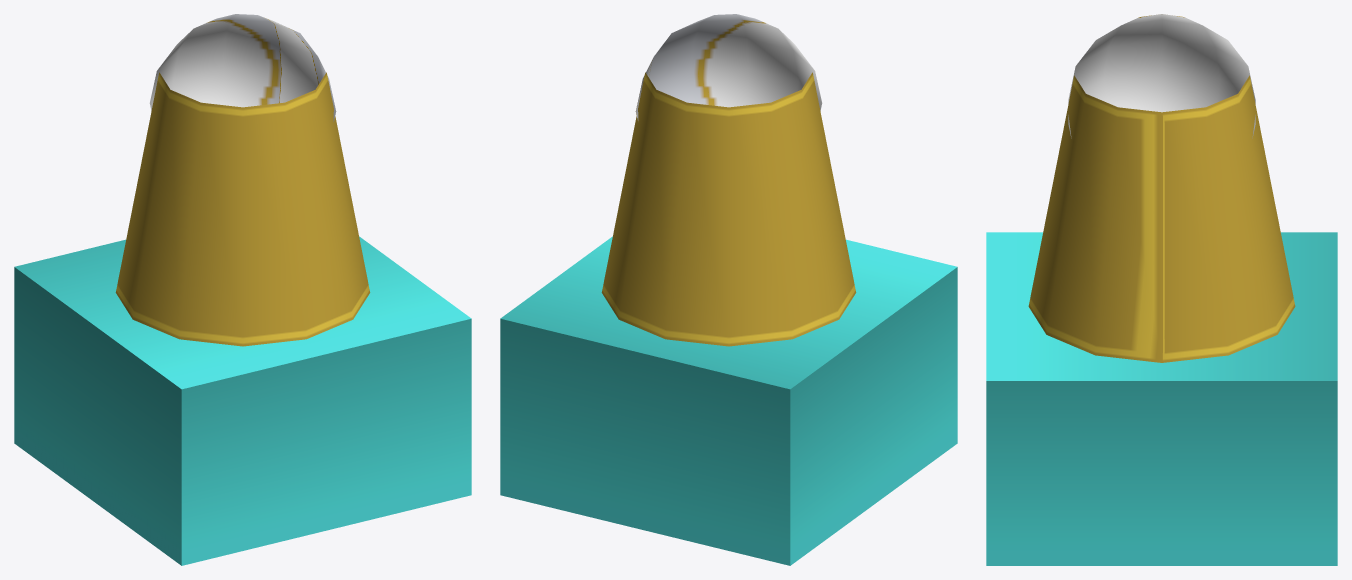
Rendered from heart_of_mirrors_prop.glb.
3 renders of one model, left to right at view 1: azimuth 30°, elevation 25°; view 2: azimuth 150°, elevation 25°; view 3: azimuth 270°, elevation 25°, orthographic. The views are drawn at different scales.
Visible parts, largest first — view 1: heart_of_mirrors_prop; view 2: heart_of_mirrors_prop; view 3: heart_of_mirrors_prop.
Part boxes in pixels (x1=…): heart_of_mirrors_prop: x1=14, y1=14, x2=471, y2=565; heart_of_mirrors_prop: x1=500, y1=14, x2=957, y2=565; heart_of_mirrors_prop: x1=986, y1=14, x2=1337, y2=565.
Size of the model in its own units: 2.2 by 3.24 by 2.2.
Materials: 1 (1 with a texture image).
